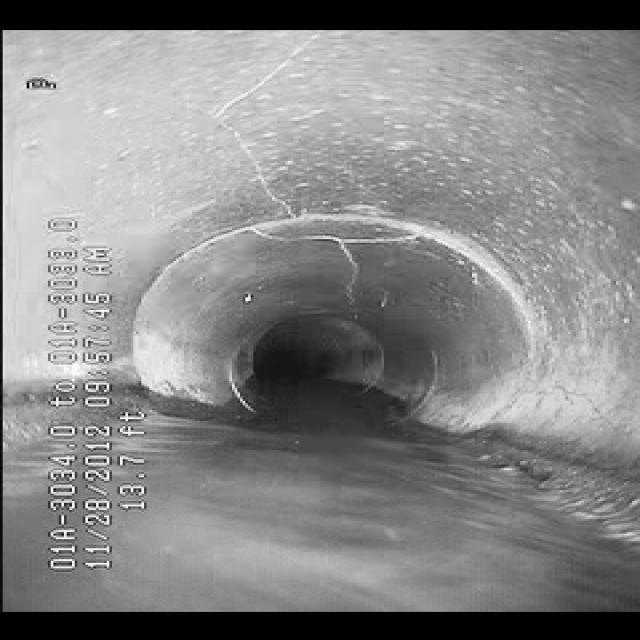Crack: (179, 54, 321, 176), (254, 211, 415, 305)
